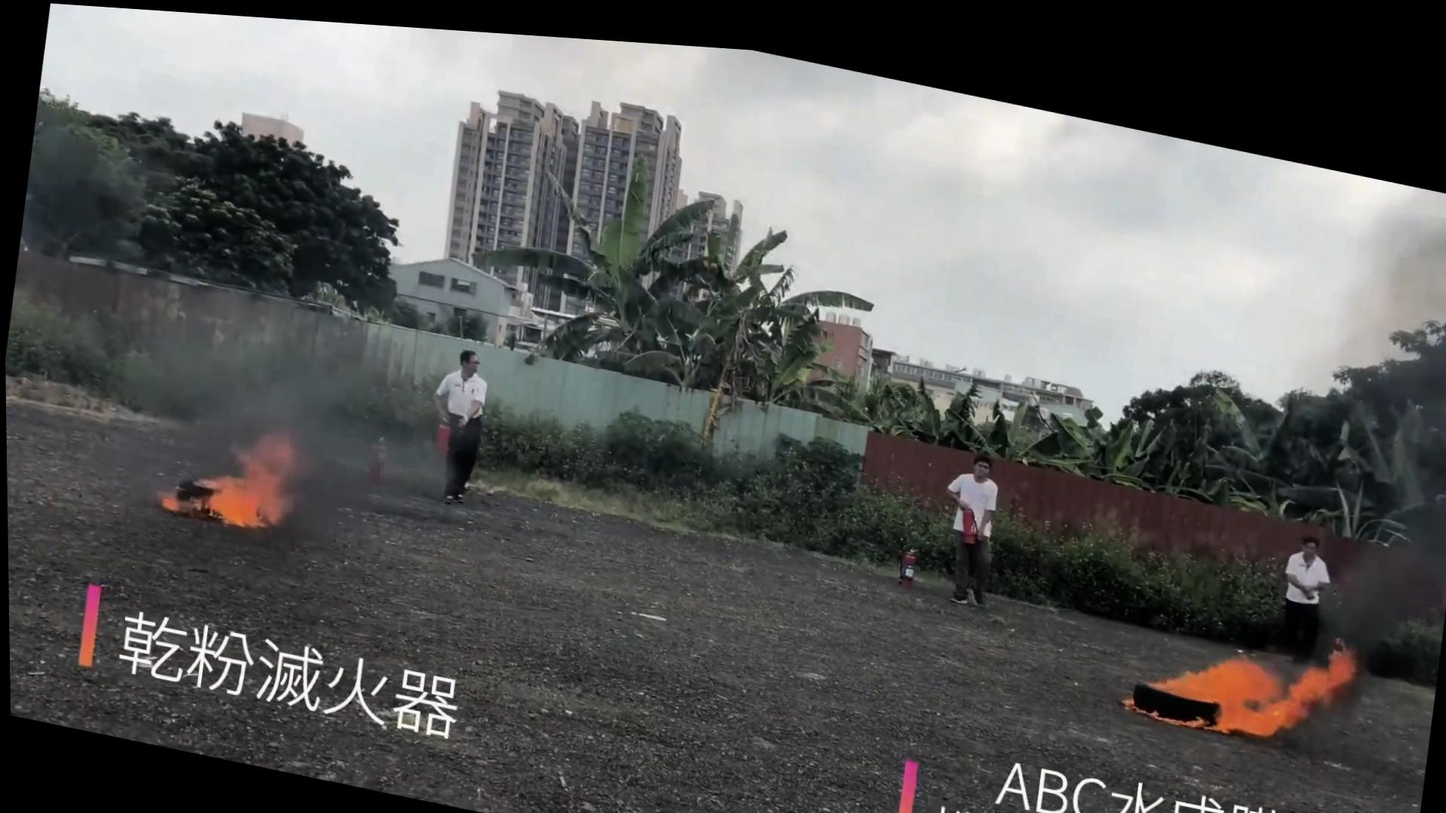FireExtinguisher: (355, 423, 393, 485), (948, 478, 986, 539), (886, 526, 923, 582), (423, 412, 457, 464)
not: (869, 410, 1446, 575), (1091, 578, 1383, 769), (154, 388, 301, 543), (68, 574, 111, 677), (882, 736, 925, 813)
